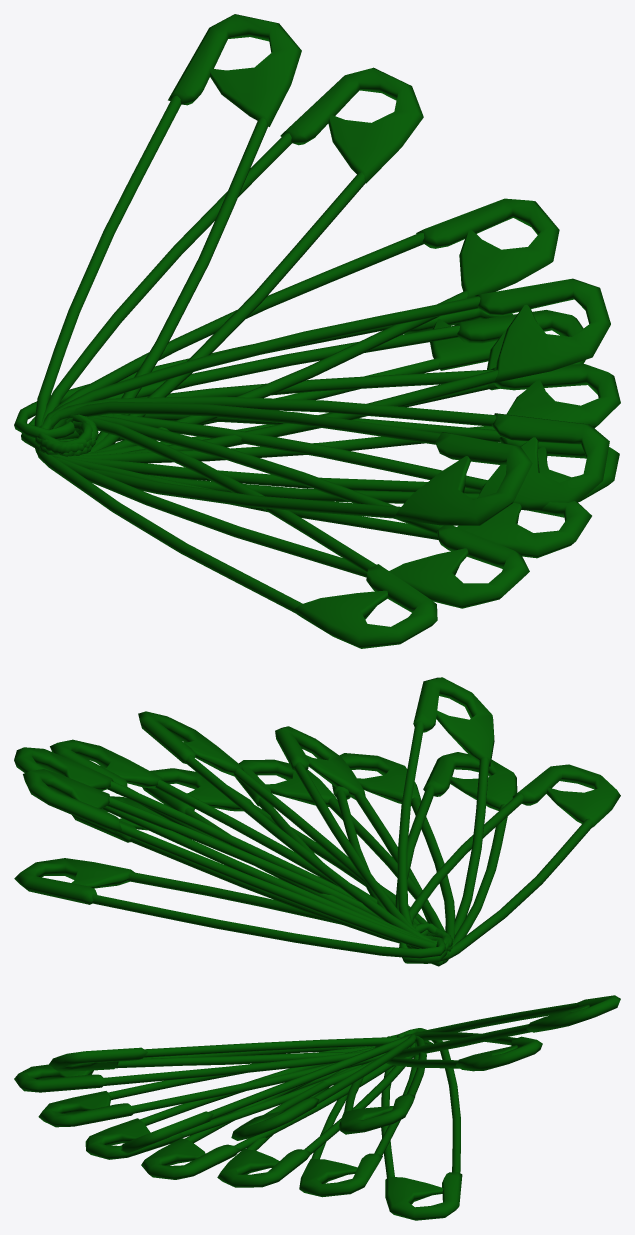
File: safetyPin.obj
3 renders of one model, top to bottom at view 1: azimuth 30°, elevation 25°; view 2: azimuth 150°, elevation 25°; view 3: azimuth 270°, elevation 25°, orthographic. The views are drawn at different scales.
Visible parts, largest first — view 1: pCylinder16; view 2: pCylinder16; view 3: pCylinder16.
Boxes of the visible parts, x1,y1,x2,y2 form: pCylinder16: (14,14,620,648); pCylinder16: (14,677,620,966); pCylinder16: (14,995,620,1220).
Bounding box in the file's own units: 15.14 × 7.25 × 22.35.
